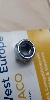Nut: (13, 38, 37, 64)
